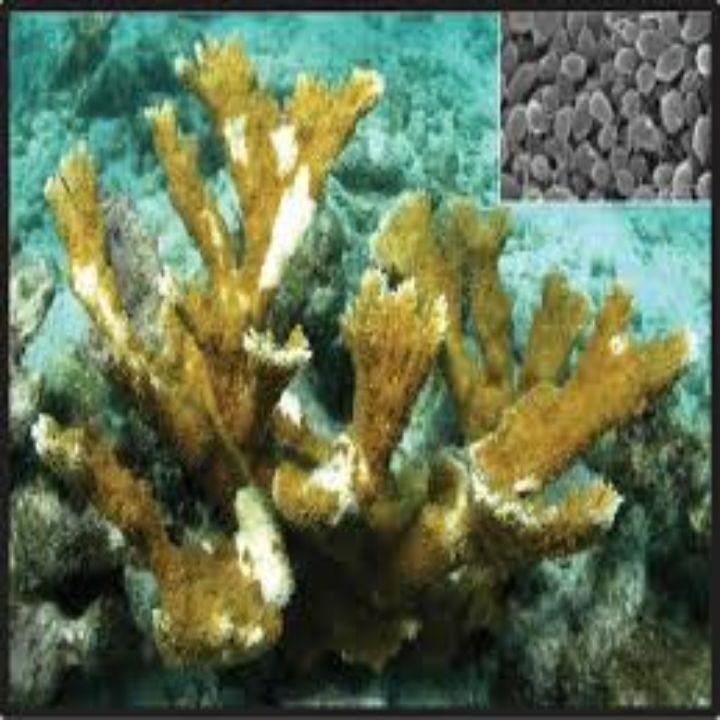White Pox Disease: (22, 94, 460, 661), (492, 460, 636, 568)
